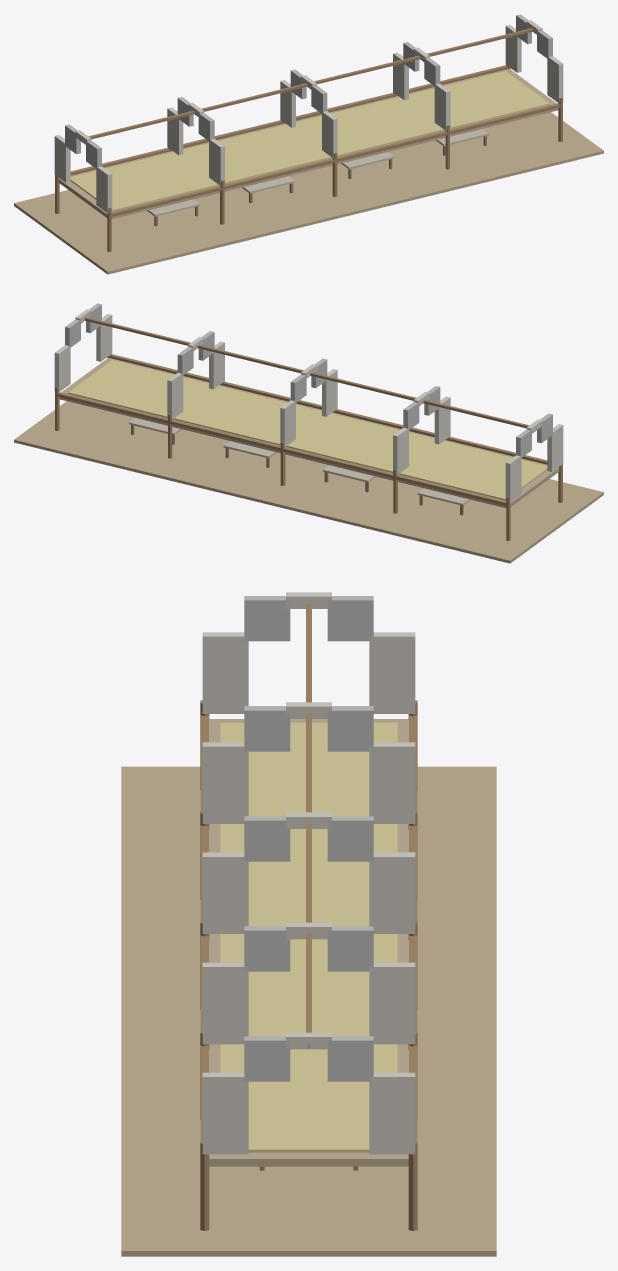
File: cafe_estacion_04_secado.glb
The picture shows the model from 3 angles, top to bottom: view 1: azimuth 30°, elevation 25°; view 2: azimuth 150°, elevation 25°; view 3: azimuth 270°, elevation 25°; orthographic projection. The views are drawn at different scales.
Visible parts, largest first — view 1: model; view 2: model; view 3: model.
Boxes of the visible parts, <box> form: model: <box>14,14,603,274</box>; model: <box>14,303,603,563</box>; model: <box>121,592,496,1256</box>.
Bounding box in the file's own units: 11 × 2.12 × 3.6.
